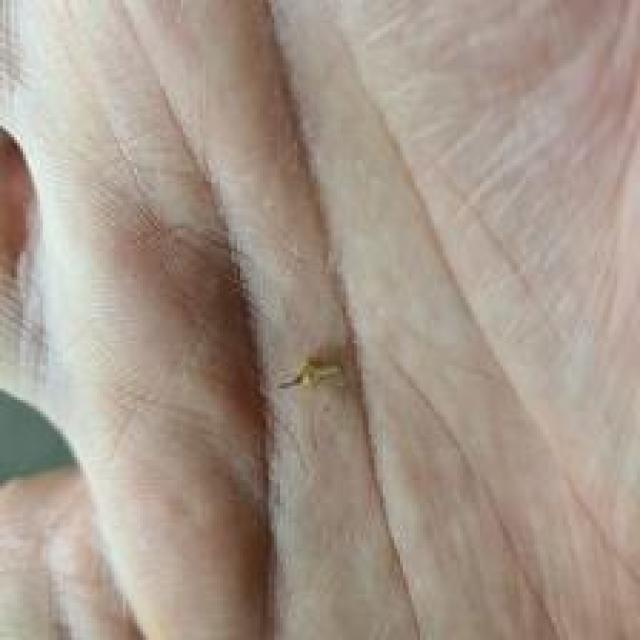Culex: (277, 356, 346, 393)
